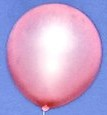Balloon: (6, 3, 102, 108)
